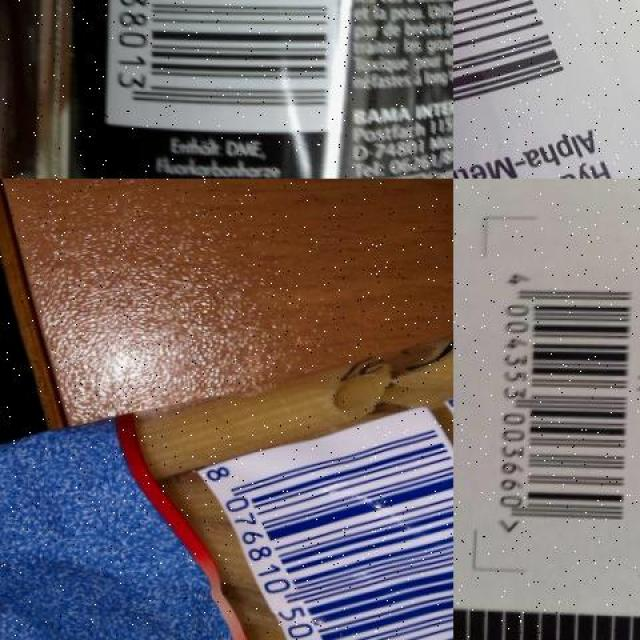Barcode: (190, 400, 453, 640), (478, 211, 640, 573), (100, 0, 355, 131), (453, 0, 595, 163)
